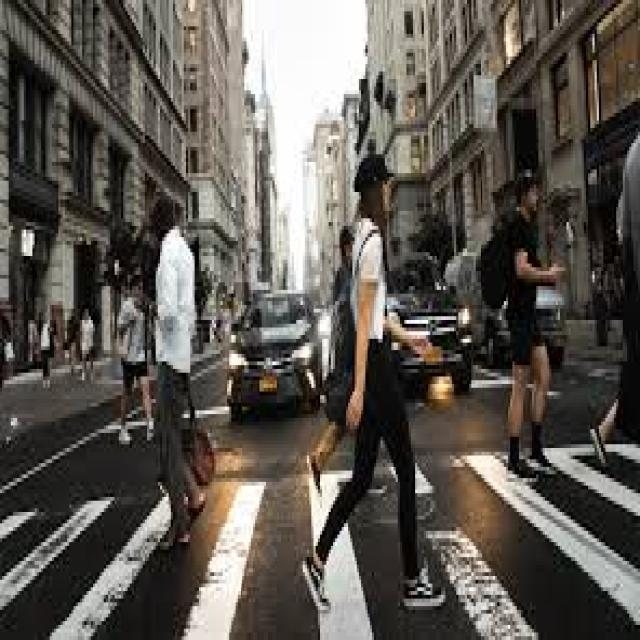Passenger Car: (227, 279, 320, 429), (385, 256, 473, 395)
Pedestrians: (298, 154, 448, 614), (149, 196, 208, 561), (506, 170, 556, 490)
